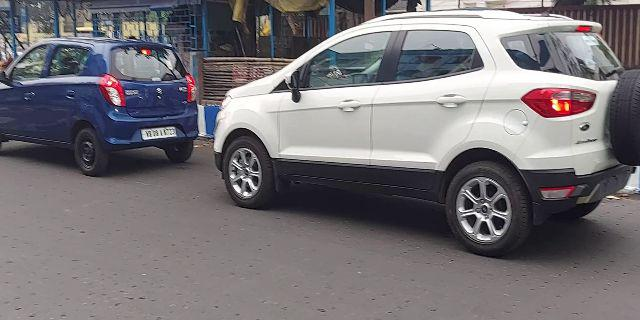Car: (215, 15, 640, 256), (1, 41, 199, 179)
